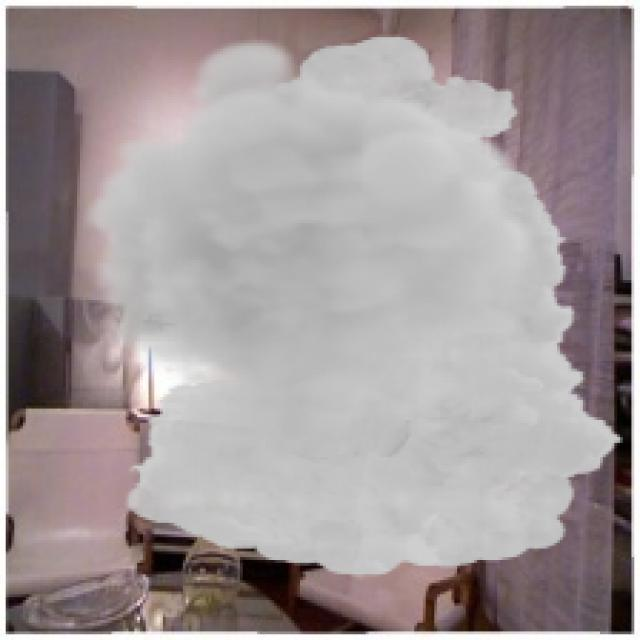Smoke: (83, 34, 626, 577)
